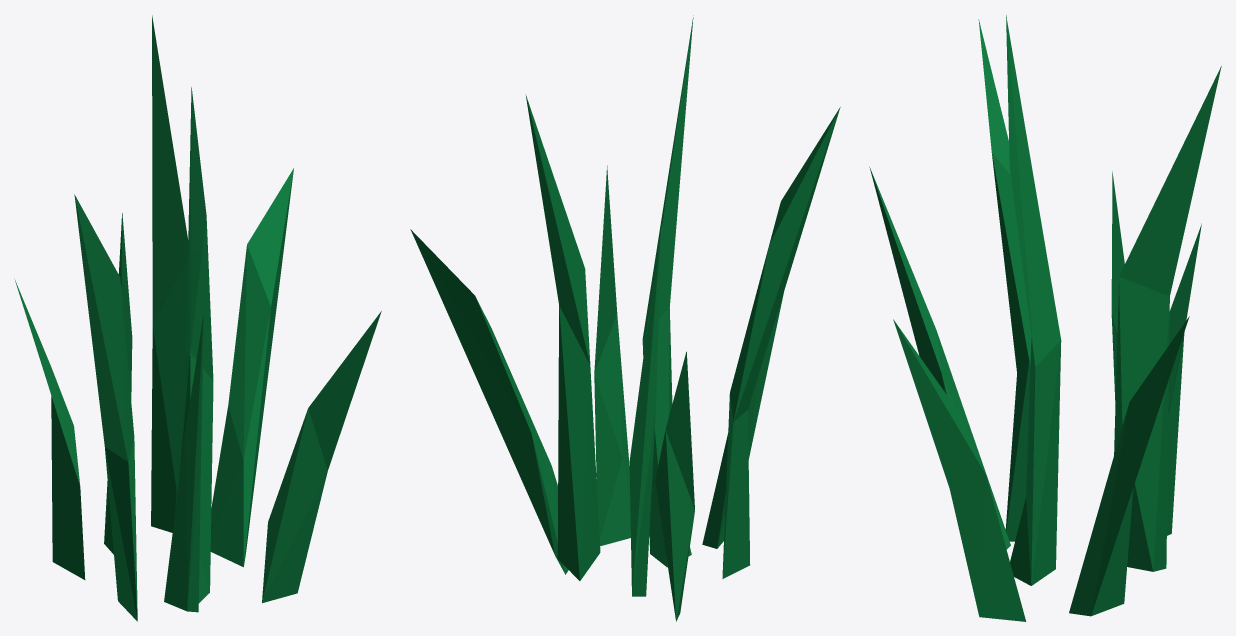
File: Grass_1.fbx
The picture shows the model from 3 angles, left to right: view 1: azimuth 30°, elevation 25°; view 2: azimuth 150°, elevation 25°; view 3: azimuth 270°, elevation 25°; orthographic projection. The views are drawn at different scales.
Visible parts, largest first — view 1: Grass_1; view 2: Grass_1; view 3: Grass_1.
Part boxes in pixels (x1,y1,x2,y2): Grass_1: (14, 15, 381, 621); Grass_1: (410, 15, 840, 621); Grass_1: (869, 15, 1221, 621).
Bounding box in the file's own units: 0.2812 × 0.4474 × 0.2532.
